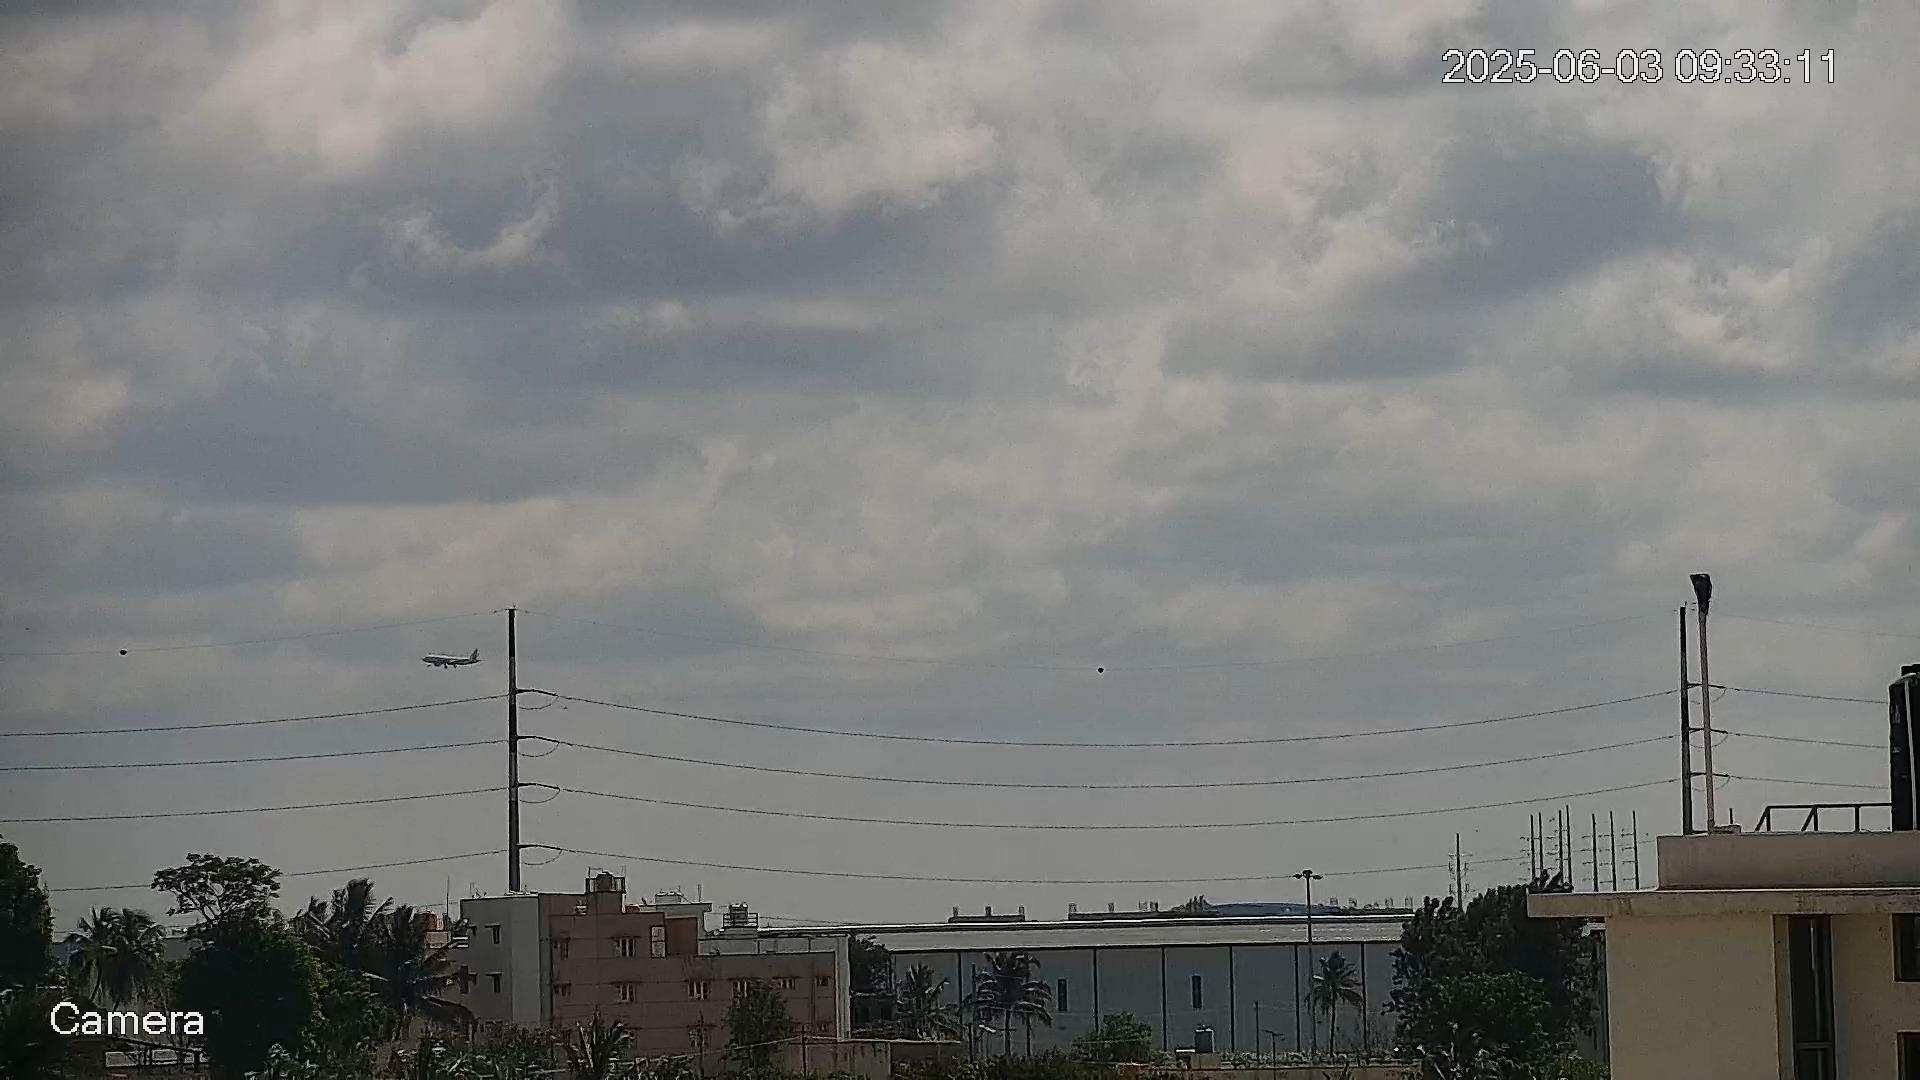Aircraft: (421, 649, 483, 670)
